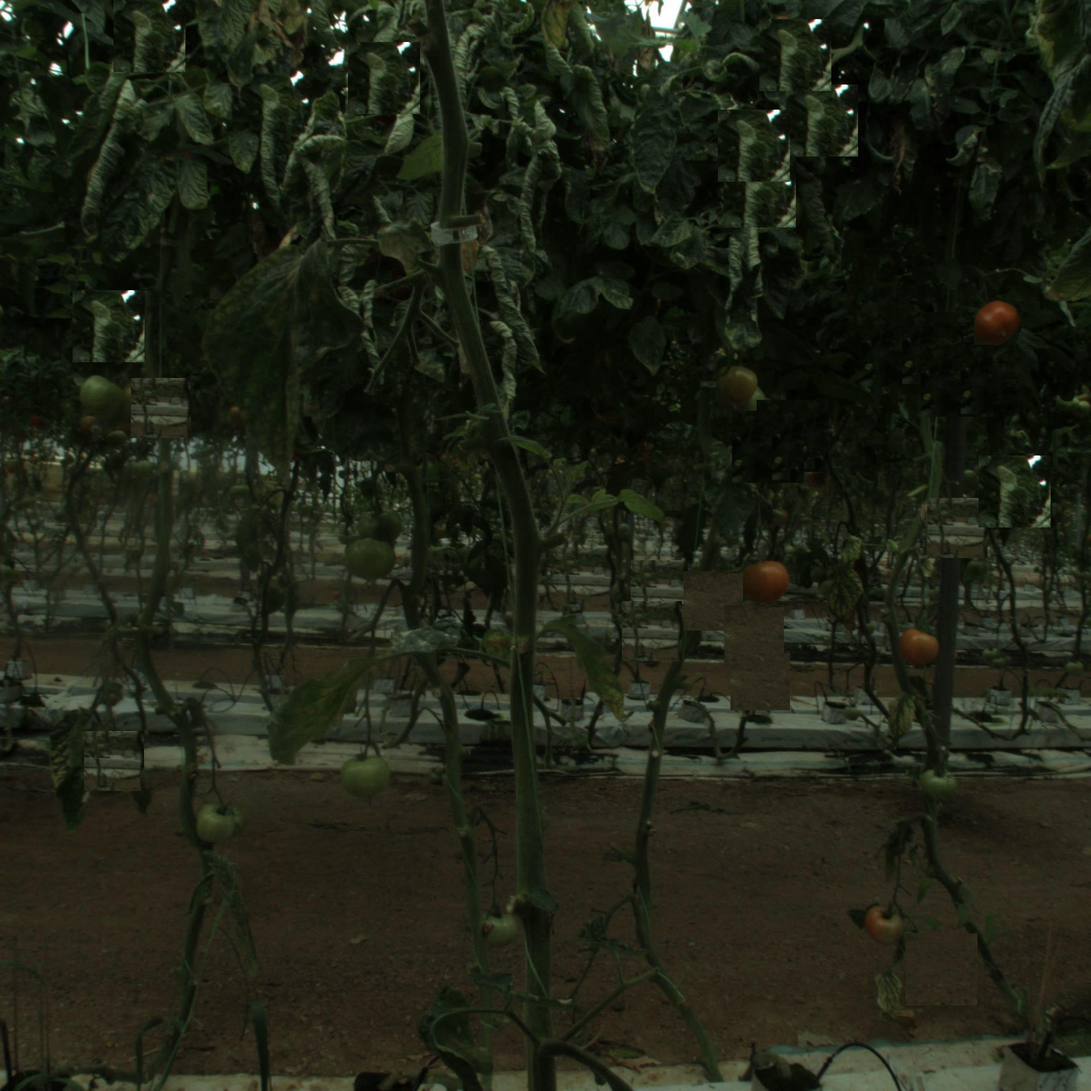['unripe', 'semi-ripe', 'fully-ripe']: (347, 532, 392, 577), (197, 800, 242, 845), (81, 377, 125, 422), (479, 908, 518, 948), (718, 365, 758, 404), (346, 754, 385, 793), (920, 766, 955, 801)
